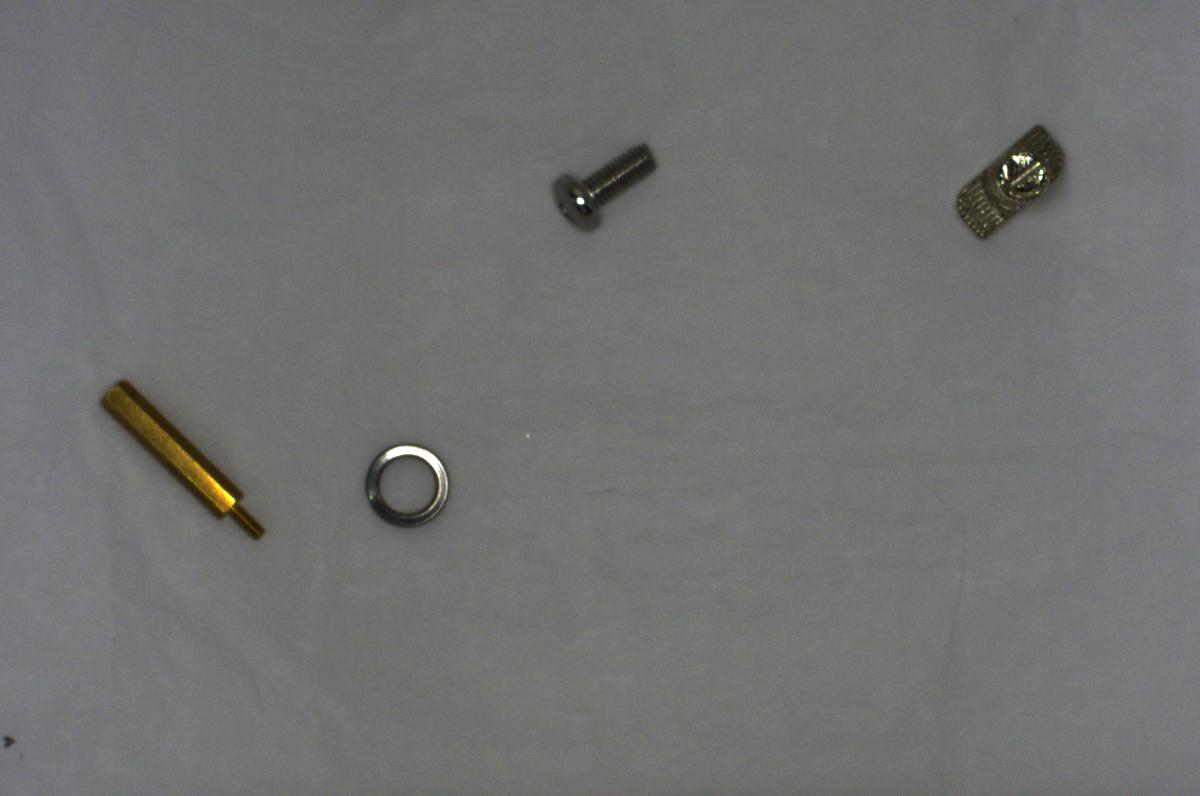Hexagon pillar: (95, 380, 258, 547)
Round head screw: (544, 142, 662, 236)
Spring washer: (351, 439, 455, 527)
T-shaped screw: (950, 113, 1071, 248)
